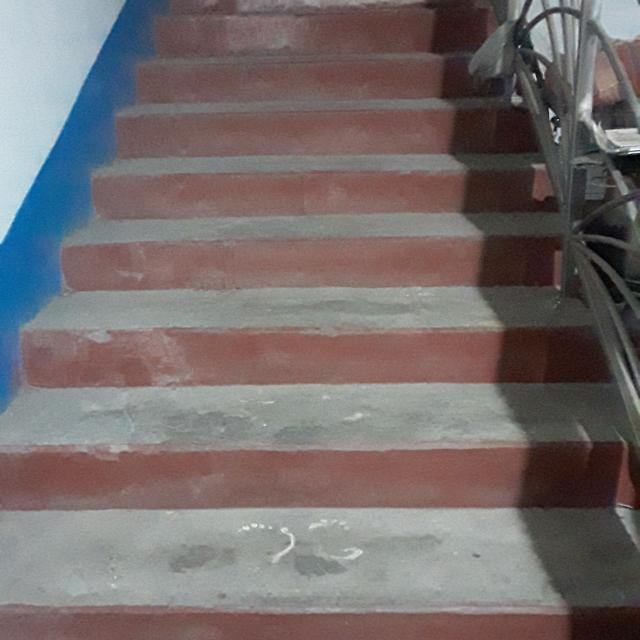Stairs: (40, 20, 628, 607)
